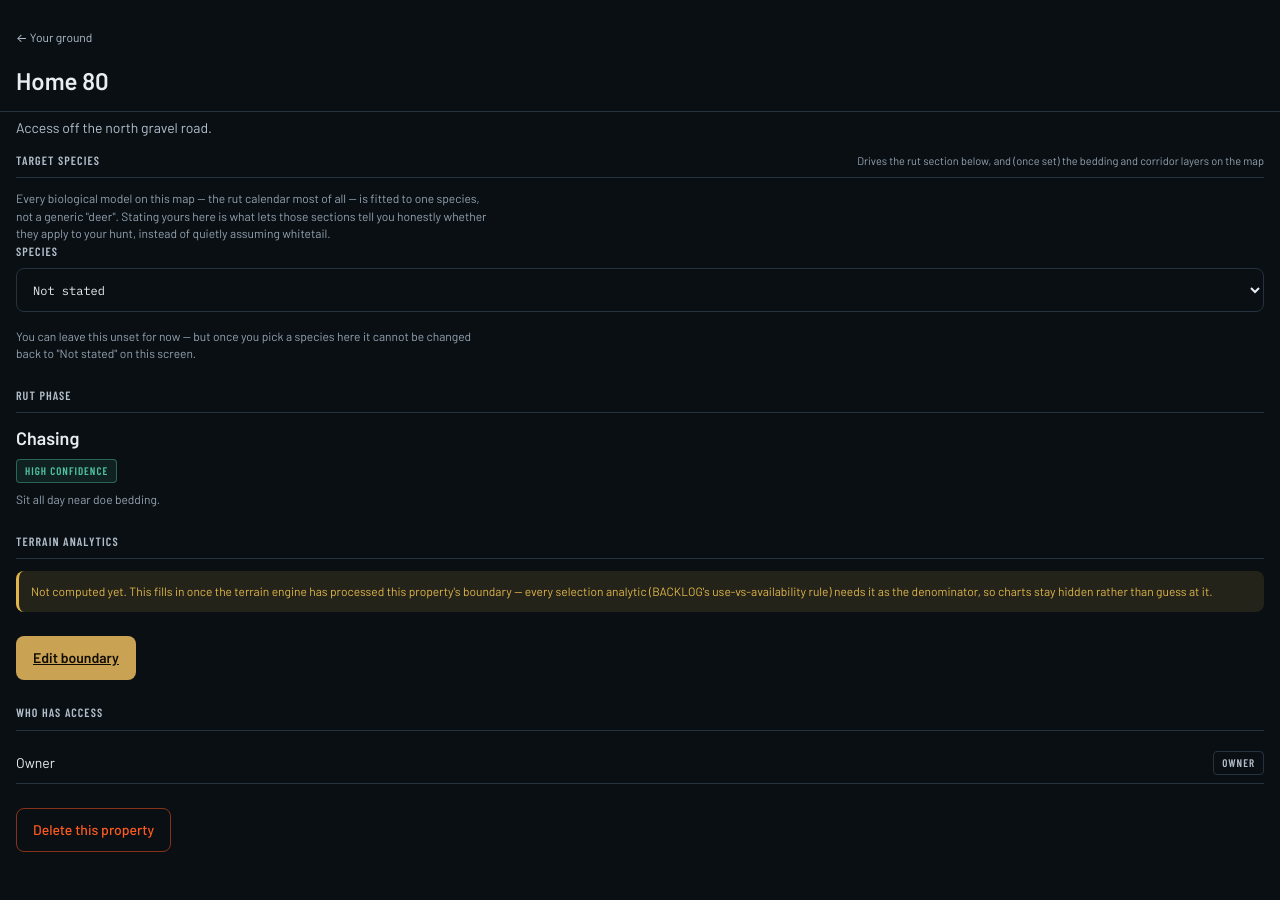
it: PropertyDetailScreen › the owner sees Edit boundary and Delete, and delete requires an explicit second press
The width and height of the screenshot is (1280, 900).
(page scrolled)
Click the button "Delete this property". click: coordinates (94, 830)
box: [16, 808, 171, 852]
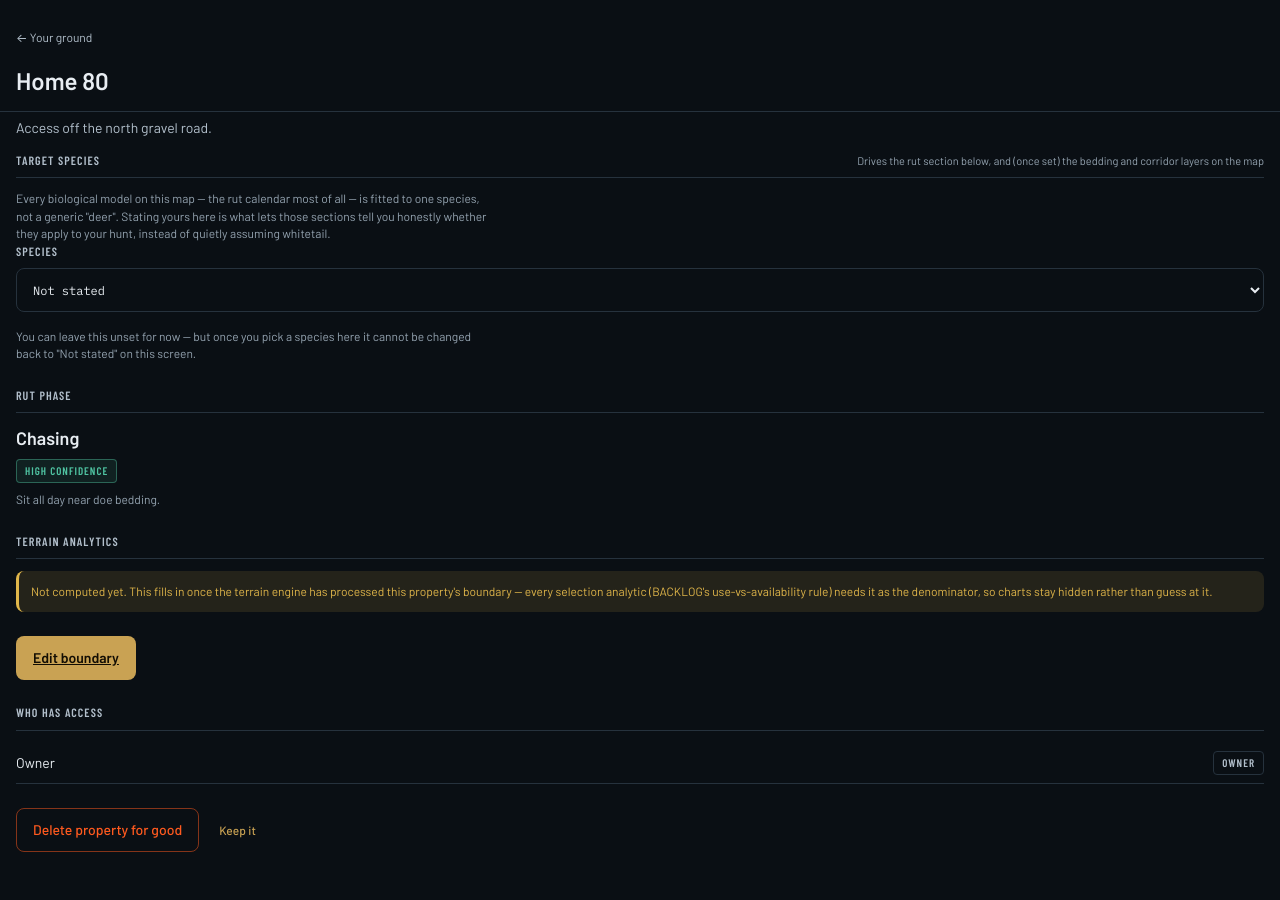
Expected: the link "← Your ground" is shown, [16, 30, 92, 44]
Result: the text "Delete property for good" is shown at [16, 808, 199, 852]
